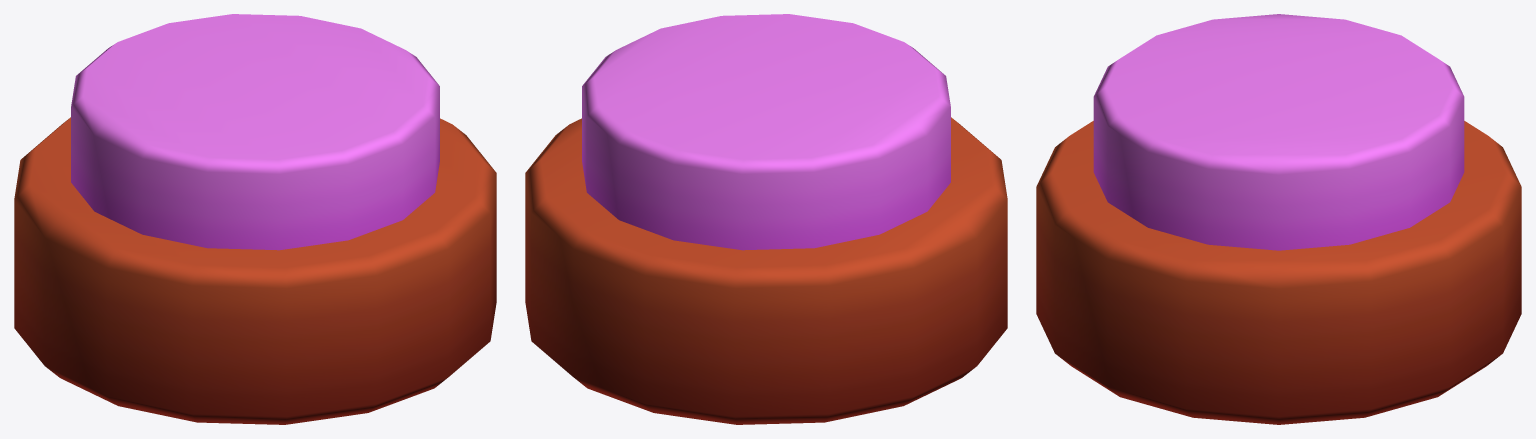
Rendered from Button.fbx.
The picture shows the model from 3 angles, left to right: view 1: azimuth 30°, elevation 25°; view 2: azimuth 150°, elevation 25°; view 3: azimuth 270°, elevation 25°; orthographic projection.
Visible parts, largest first — view 1: Button; view 2: Button; view 3: Button.
Boxes of the visible parts, <box> form: Button: <box>14,14,496,424</box>; Button: <box>525,14,1007,424</box>; Button: <box>1036,14,1521,424</box>.
Size of the model in its own units: 64.08 by 35.39 by 64.08.
